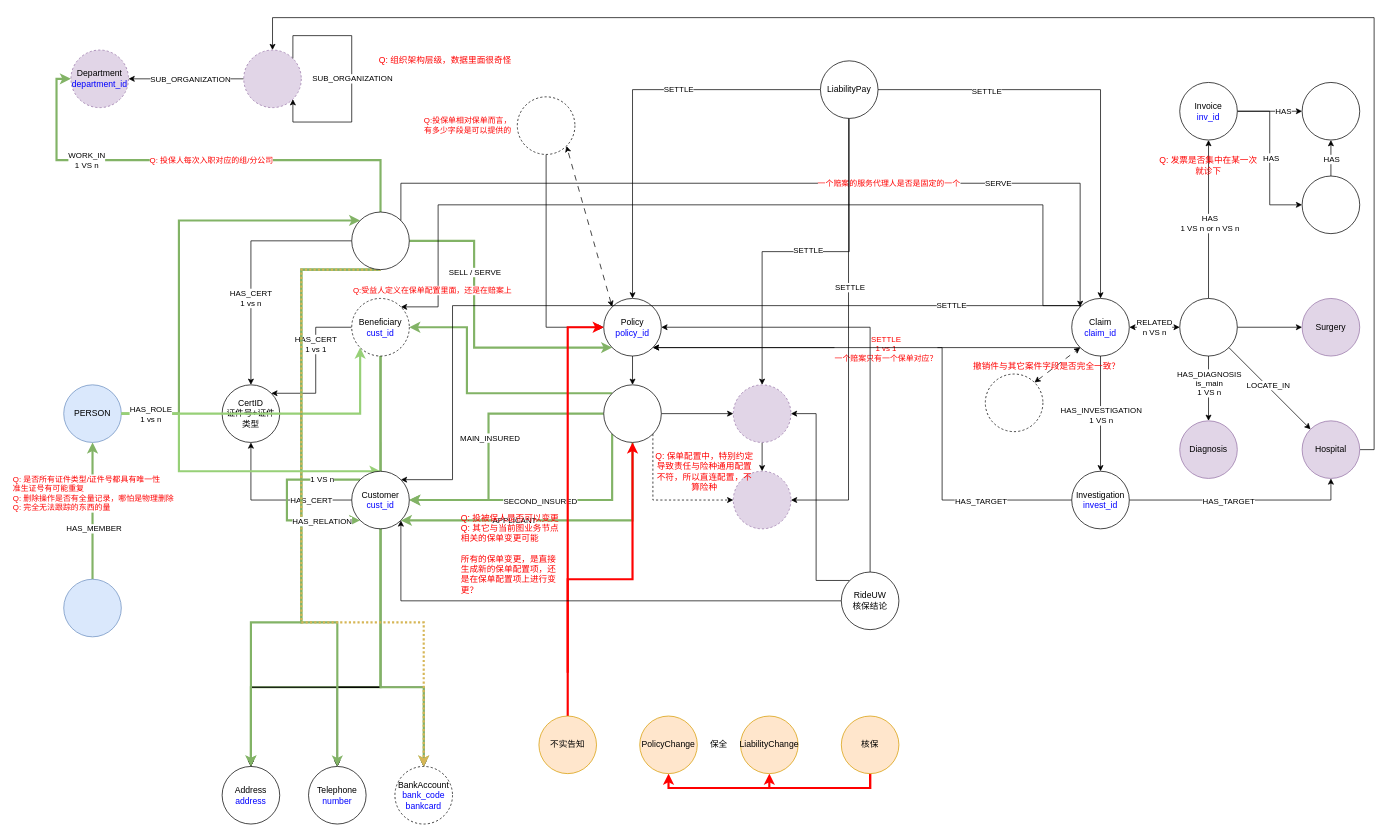
Image size: 1392x837. Some labels were removed from this diagram. Here are the shapes that lost their labels. From the top down, the centre of each, then its label:
At point 272,78: "Company company_id".
At point 546,125: "AppliedPolicy".
At point 1330,111: "Item item_id".
At point 1330,204: "CategoricalFee cf_id".
At point 380,240: "Agent agent_id".
At point 1208,327: "Admission admin_id".
At point 632,413: "Config 保单配置".
At point 762,413: "Product product_id".
At point 1014,402: "WithdrewClaim claim_id".
At point 762,500: "Liability liab_id".
At point 92,608: "Family".
